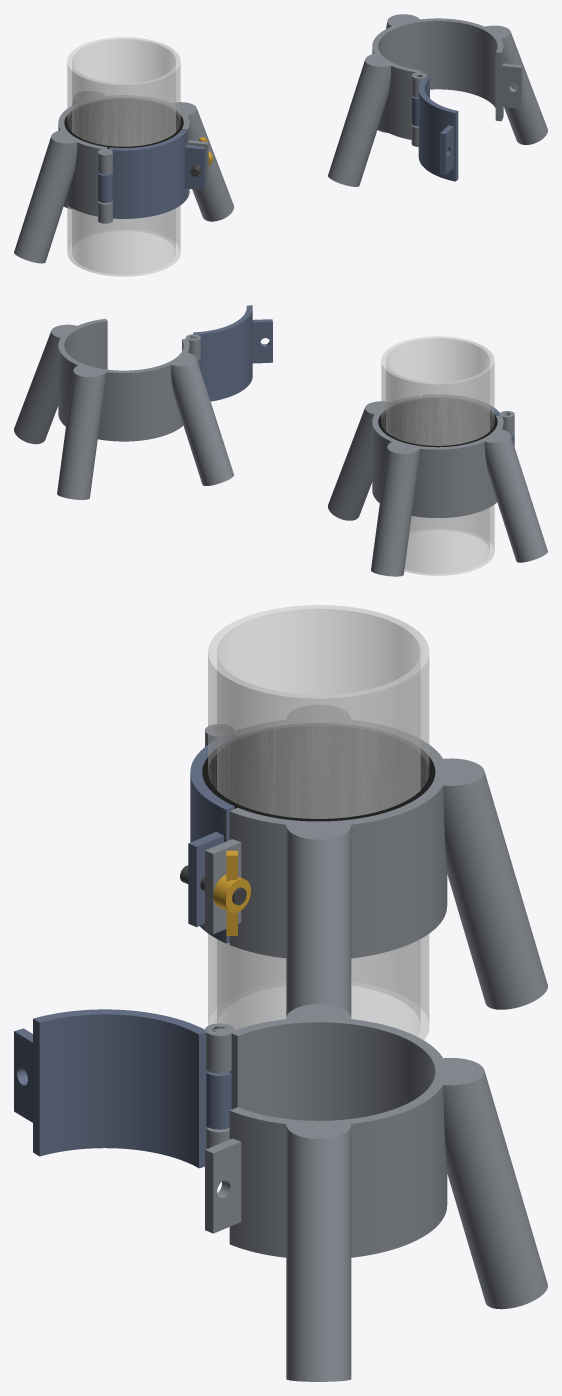
The picture shows the model from 3 angles, top to bottom: view 1: azimuth 30°, elevation 25°; view 2: azimuth 150°, elevation 25°; view 3: azimuth 270°, elevation 25°; orthographic projection. The views are drawn at different scales.
Parts seen in each view (by area): view 1: growing_pipe_stub, collar_body_with_sleeves_6, collar_body_with_sleeves_0, gate_1, rubber_liner_3, gate_7; view 2: collar_body_with_sleeves_6, collar_body_with_sleeves_0, growing_pipe_stub, rubber_liner_3, gate_7; view 3: collar_body_with_sleeves_6, growing_pipe_stub, collar_body_with_sleeves_0, gate_7, rubber_liner_3, gate_1, wing_nut_5.
Part boxes in pixels (x1=…): growing_pipe_stub: x1=67, y1=37, x2=180, y2=276; collar_body_with_sleeves_6: x1=328, y1=14, x2=547, y2=186; collar_body_with_sleeves_0: x1=14, y1=91, x2=233, y2=263; gate_1: x1=98, y1=129, x2=205, y2=218; rubber_liner_3: x1=64, y1=98, x2=183, y2=148; gate_7: x1=411, y1=77, x2=458, y2=181; collar_body_with_sleeves_6: x1=14, y1=318, x2=233, y2=499; collar_body_with_sleeves_0: x1=328, y1=396, x2=547, y2=576; growing_pipe_stub: x1=381, y1=336, x2=494, y2=575; rubber_liner_3: x1=378, y1=397, x2=497, y2=447; gate_7: x1=193, y1=305, x2=272, y2=401; collar_body_with_sleeves_6: x1=205, y1=1004, x2=547, y2=1381; growing_pipe_stub: x1=208, y1=605, x2=429, y2=1039; collar_body_with_sleeves_0: x1=205, y1=705, x2=547, y2=1017; gate_7: x1=14, y1=1009, x2=231, y2=1168; rubber_liner_3: x1=202, y1=723, x2=435, y2=821; gate_1: x1=188, y1=736, x2=234, y2=943; wing_nut_5: x1=213, y1=850, x2=250, y2=935.
Size of the model in its own units: 405 by 140 by 181.
